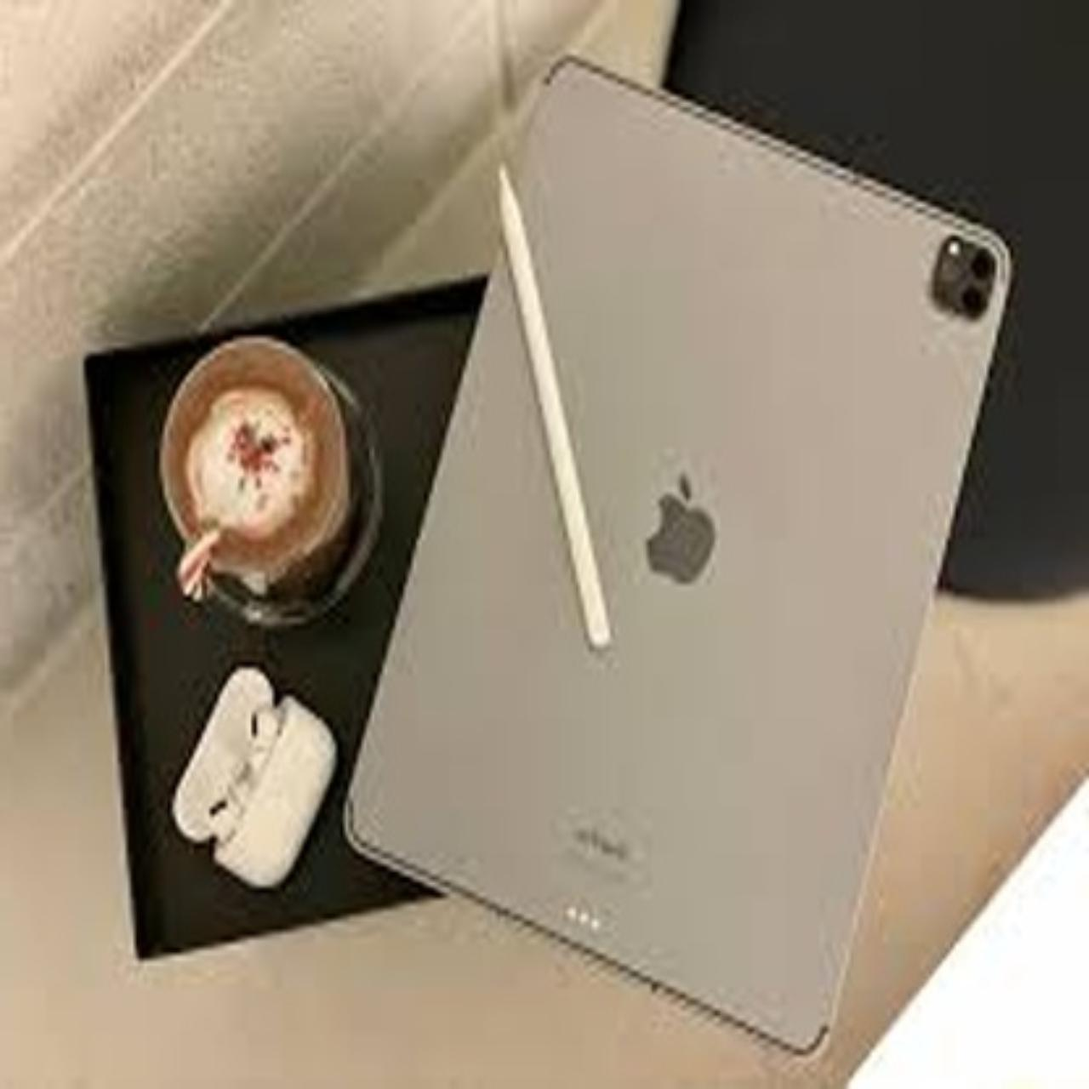Tablet_PC: (322, 31, 1039, 1078)
